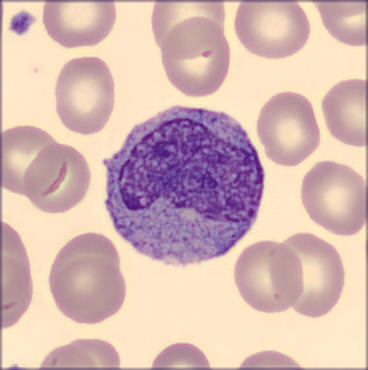WBC: (97, 102, 268, 268)
